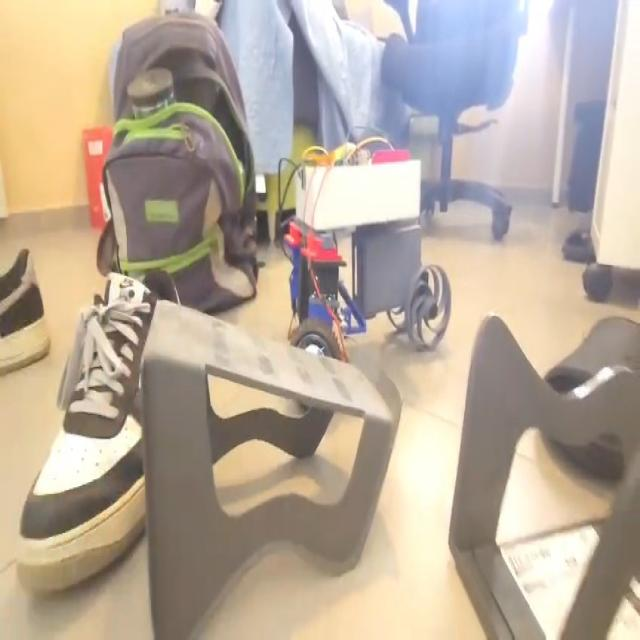Robot: (284, 144, 452, 362)
